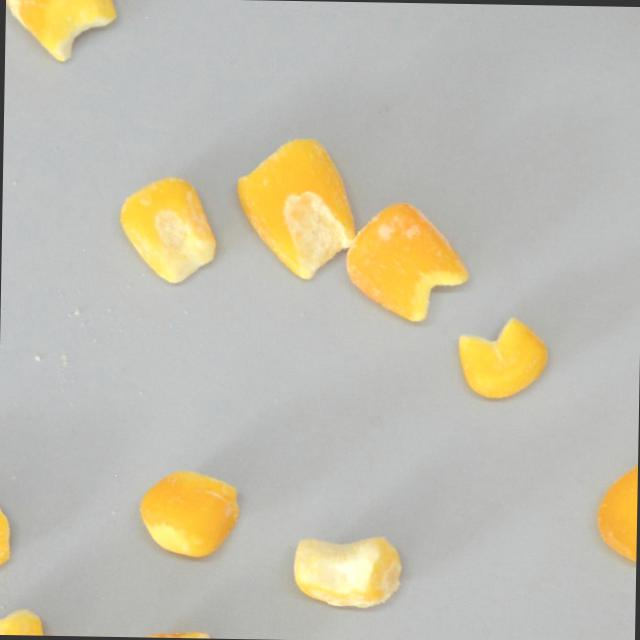no_canjicado: (458, 317, 549, 394), (595, 451, 638, 565), (0, 607, 54, 635), (0, 480, 10, 583)
pelicula: (234, 135, 357, 280), (341, 197, 471, 322), (116, 174, 219, 284), (137, 467, 240, 556), (291, 531, 404, 608), (4, 0, 118, 62)
